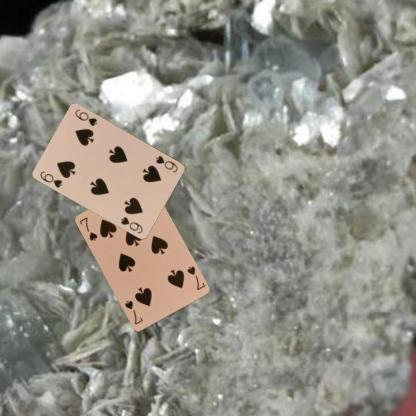6s: (38, 168, 64, 189), (153, 153, 179, 173)
7s: (76, 214, 98, 242), (184, 264, 206, 291)
